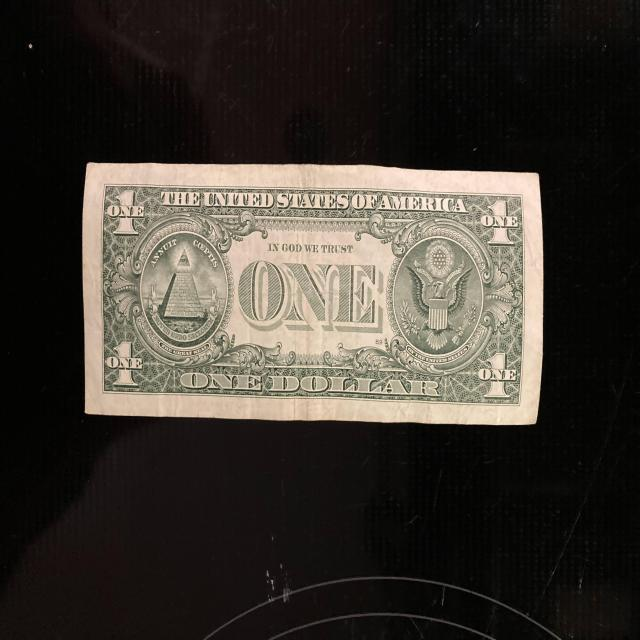one: (81, 162, 543, 427)
